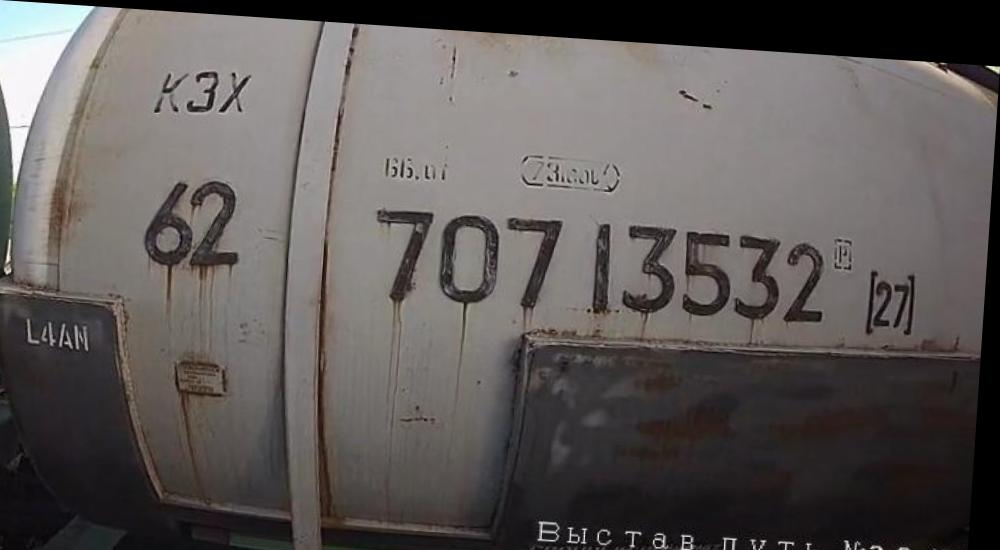Wagon-number: (369, 196, 835, 316)
